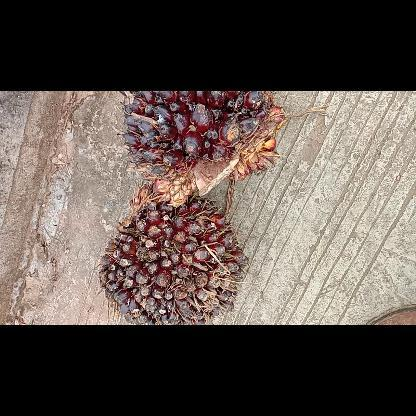TBS mentah: (95, 180, 254, 324), (118, 91, 292, 205)
